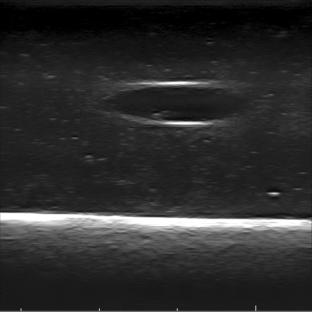vessel: (109, 81, 246, 128)
